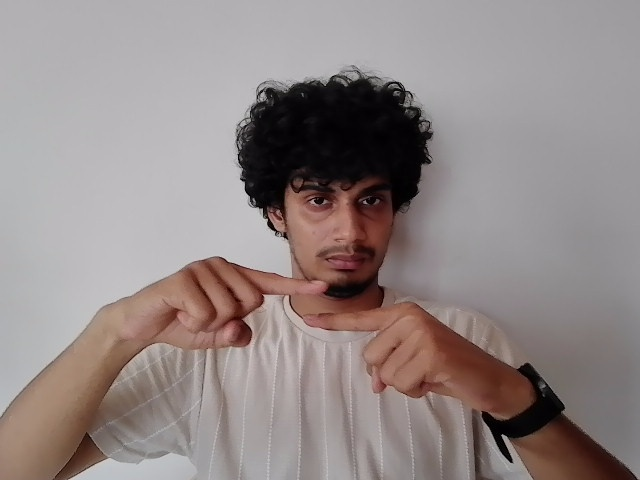about: (102, 256, 493, 411)
